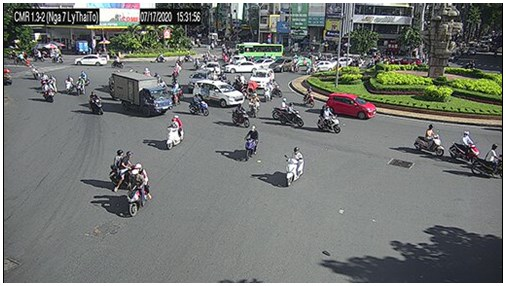xe_buyt: (236, 42, 283, 58)
xe_hoi: (325, 92, 377, 120), (194, 80, 244, 107), (249, 69, 275, 88), (74, 54, 107, 66), (269, 57, 294, 72), (225, 62, 261, 72), (255, 57, 277, 71), (332, 57, 354, 67), (310, 60, 331, 70), (200, 62, 218, 73)
xe_may: (126, 162, 150, 217), (109, 150, 137, 191), (473, 143, 504, 178), (414, 123, 444, 159), (448, 131, 479, 164), (285, 147, 304, 186), (316, 106, 340, 134), (166, 115, 184, 151), (281, 103, 304, 129), (189, 93, 210, 117), (245, 125, 258, 161), (232, 104, 250, 128), (89, 91, 104, 114), (300, 87, 314, 108), (250, 92, 260, 119), (43, 81, 55, 103), (270, 78, 282, 97), (75, 75, 86, 95), (170, 83, 180, 104), (65, 76, 75, 95), (31, 63, 42, 80), (110, 56, 124, 69), (263, 82, 271, 102), (171, 62, 179, 81), (191, 56, 201, 70), (154, 53, 165, 64)
xe_tai: (112, 71, 172, 117)
